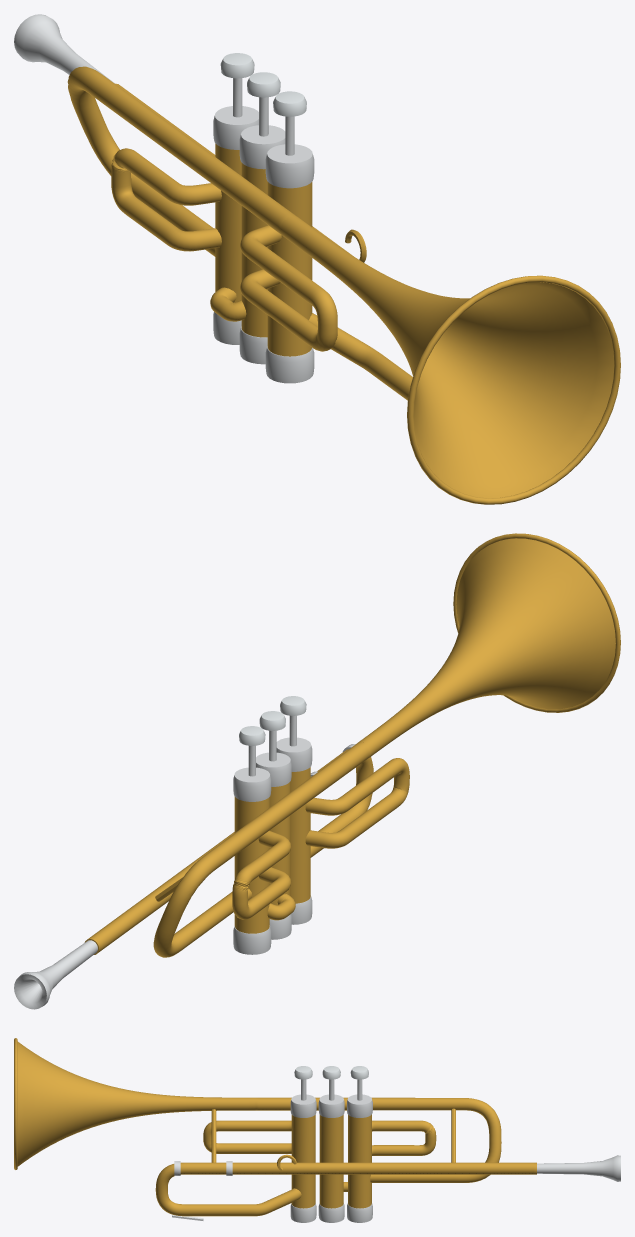
The model's file is trumpet.glb.
The picture shows the model from 3 angles, top to bottom: view 1: azimuth 30°, elevation 25°; view 2: azimuth 150°, elevation 25°; view 3: azimuth 270°, elevation 25°; orthographic projection. The views are drawn at different scales.
Parts seen in each view (by area): view 1: Trumpet; view 2: Trumpet; view 3: Trumpet.
Boxes of the visible parts, <box> form: Trumpet: <box>14,14,620,504</box>; Trumpet: <box>14,533,620,1009</box>; Trumpet: <box>14,1038,620,1222</box>.
Size of the model in its own units: 0.127 by 0.1715 by 0.5823.
